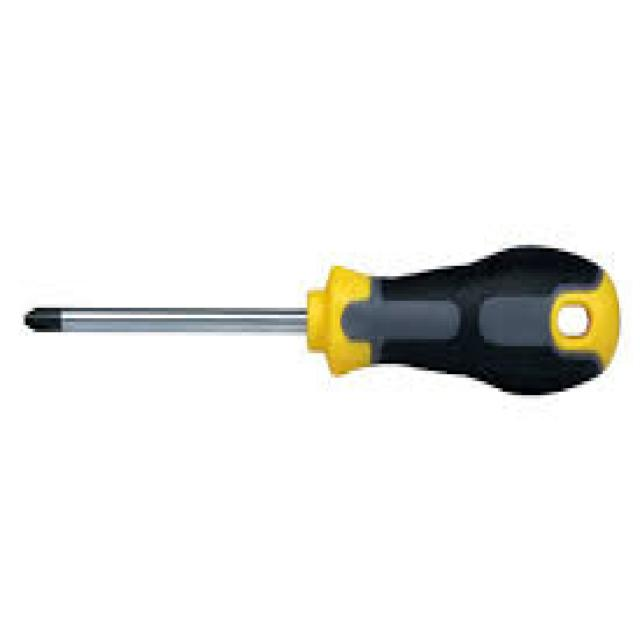screw driver: (10, 228, 640, 452)
